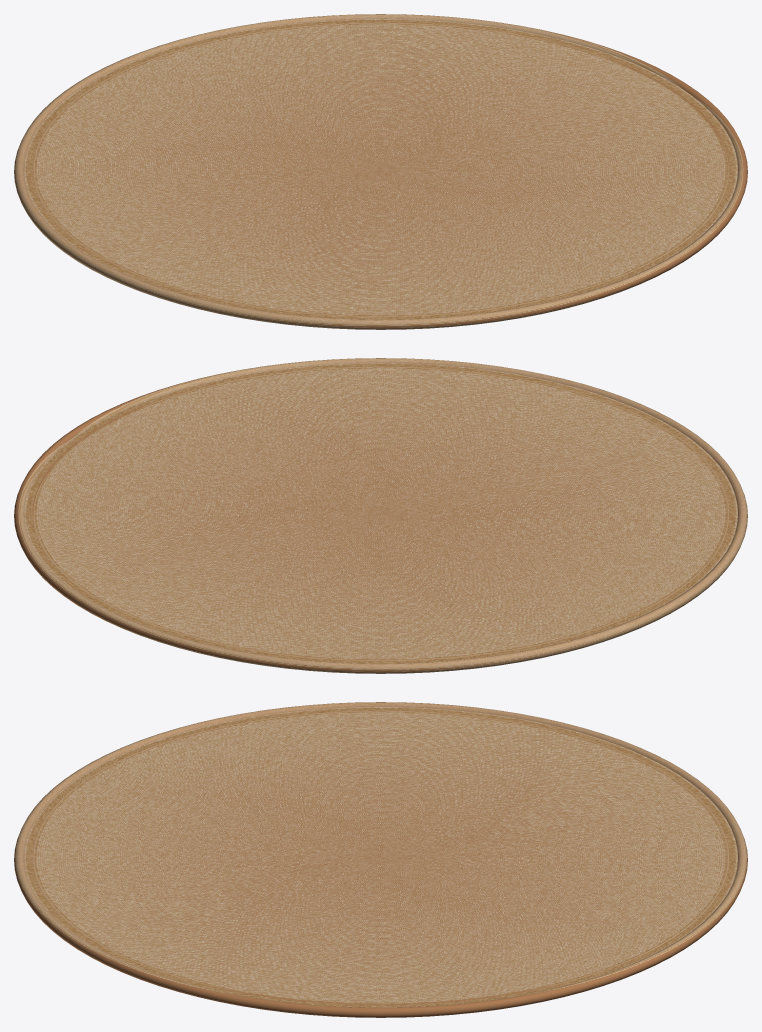
The model's file is rug.glb.
3 views of the same model, one above another, from view 1: azimuth 30°, elevation 25°; view 2: azimuth 150°, elevation 25°; view 3: azimuth 270°, elevation 25° (orthographic).
Parts seen in each view (by area): view 1: rug; view 2: rug; view 3: rug.
Part boxes in pixels (<box>): rug: <box>14,14,747,329</box>; rug: <box>14,358,747,673</box>; rug: <box>14,702,747,1017</box>.
Bounding box in the file's own units: 2.17 × 0.032 × 2.17.
4 materials, 4 textured.
